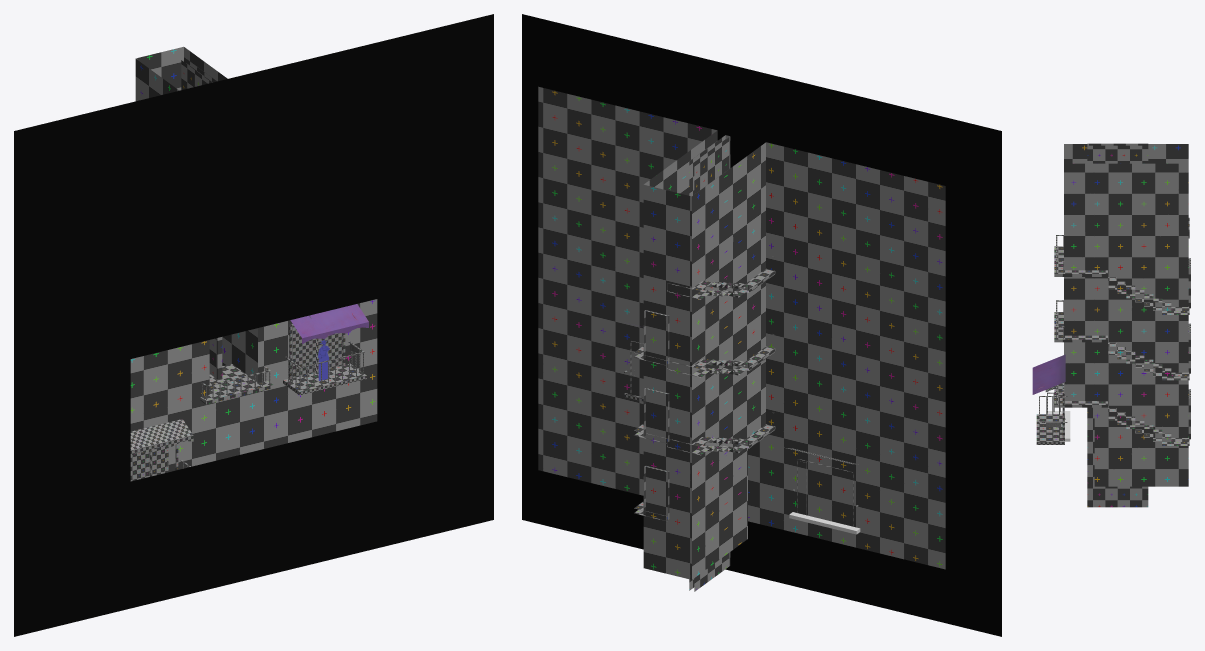
The model's file is page_2__scene.glb.
3 renders of one model, left to right at view 1: azimuth 30°, elevation 25°; view 2: azimuth 150°, elevation 25°; view 3: azimuth 270°, elevation 25°, orthographic. The views are drawn at different scales.
Parts seen in each view (by area): view 1: bounds, building, riita_door, riita_awning, left_awning, stairs_2, riita_balcony, middle, left_door; view 2: building, bounds, middle, stairs_2, stairs_0, stairs_1; view 3: building, middle, stairs_1, stairs_0, stairs_2, riita_awning, riita_balcony.
Boxes of the visible parts, x1,y1,x2,y2 form: bounds: (14,14,493,636); building: (130,46,377,471); riita_door: (289,324,345,378); riita_awning: (290,304,368,344); left_awning: (130,419,193,455); stairs_2: (200,364,273,404); riita_balcony: (283,363,366,395); middle: (181,59,222,379); left_door: (130,443,178,481); building: (538,86,945,579); bounds: (522,14,1001,636); middle: (689,135,730,591); stairs_2: (634,424,775,521); stairs_0: (634,268,775,365); stairs_1: (634,346,775,443); building: (1064,144,1188,486); middle: (1087,143,1148,507); stairs_1: (1054,312,1189,380); stairs_0: (1054,217,1189,314); stairs_2: (1054,383,1189,445); riita_awning: (1032,354,1065,394); riita_balcony: (1036,414,1064,444).
Size of the model in its own units: 62.1 by 62.54 by 21.39.
14 materials, 12 textured.
